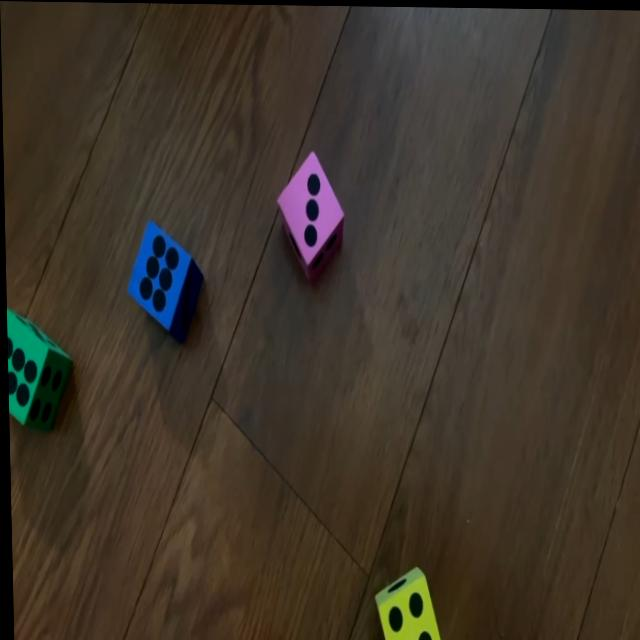cube: (125, 219, 199, 340), (6, 303, 68, 428)
